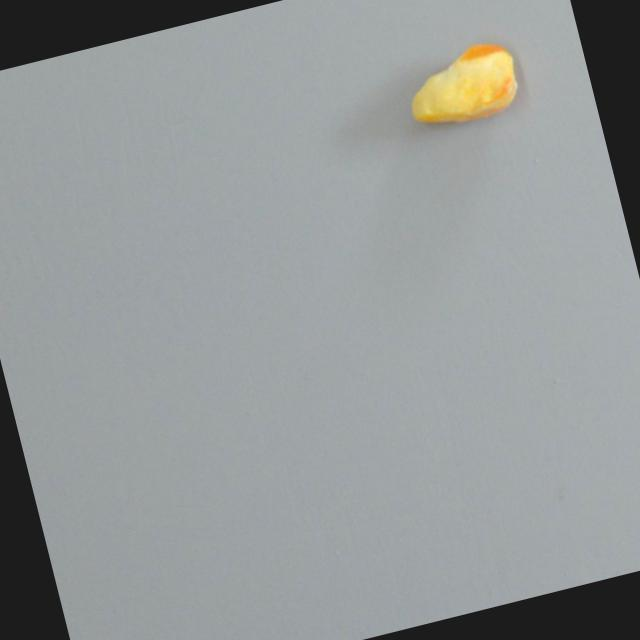pelicula: (397, 32, 526, 137)
